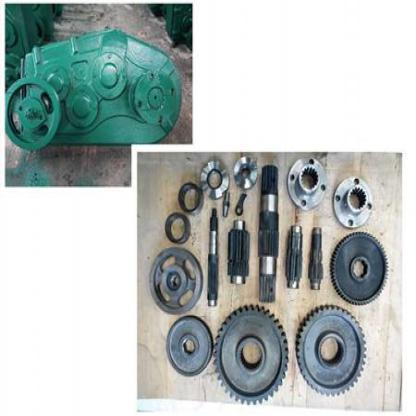FOD: (214, 299, 291, 411), (297, 301, 370, 399)
